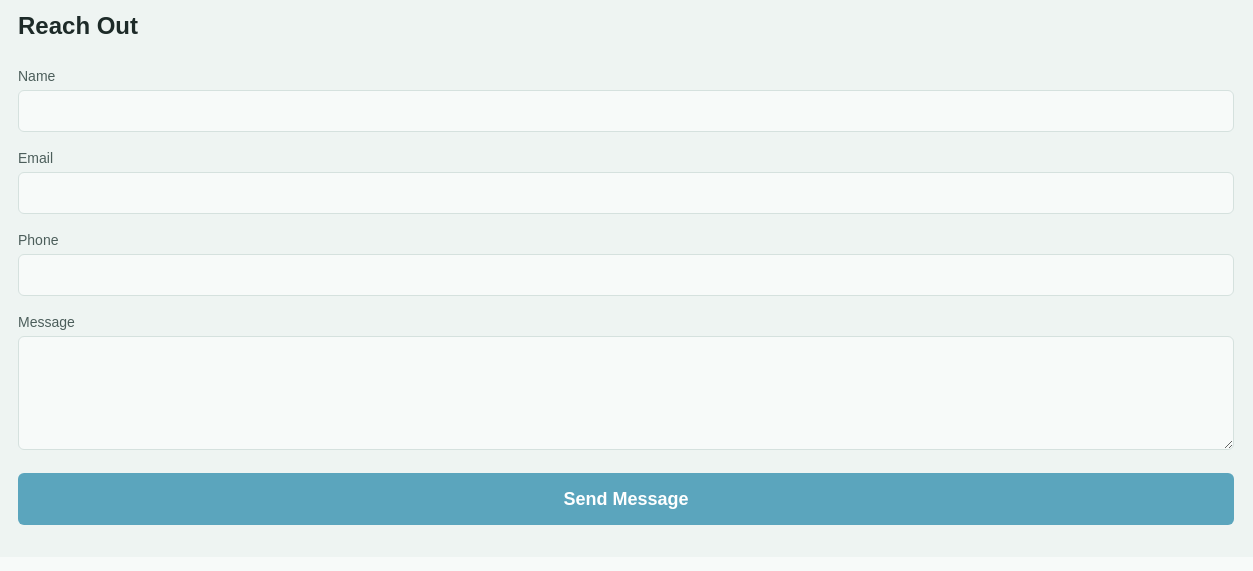
ContactForm › clears contact info validation error when email or phone changes
Type "Jane Doe" into the field labelled "Name".
click(626, 111); type("Jane Doe")  # box [18,90,1234,132]
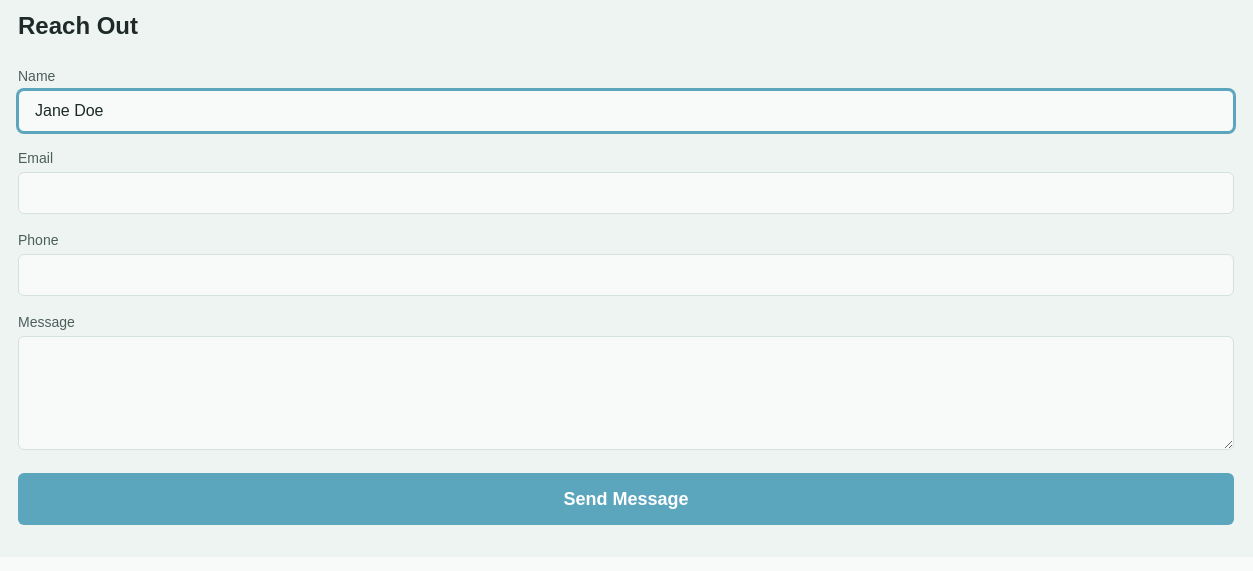
Type "Hello there." into the text box labelled "Message".
click(626, 393); type("Hello there.")  # box [18,336,1234,450]
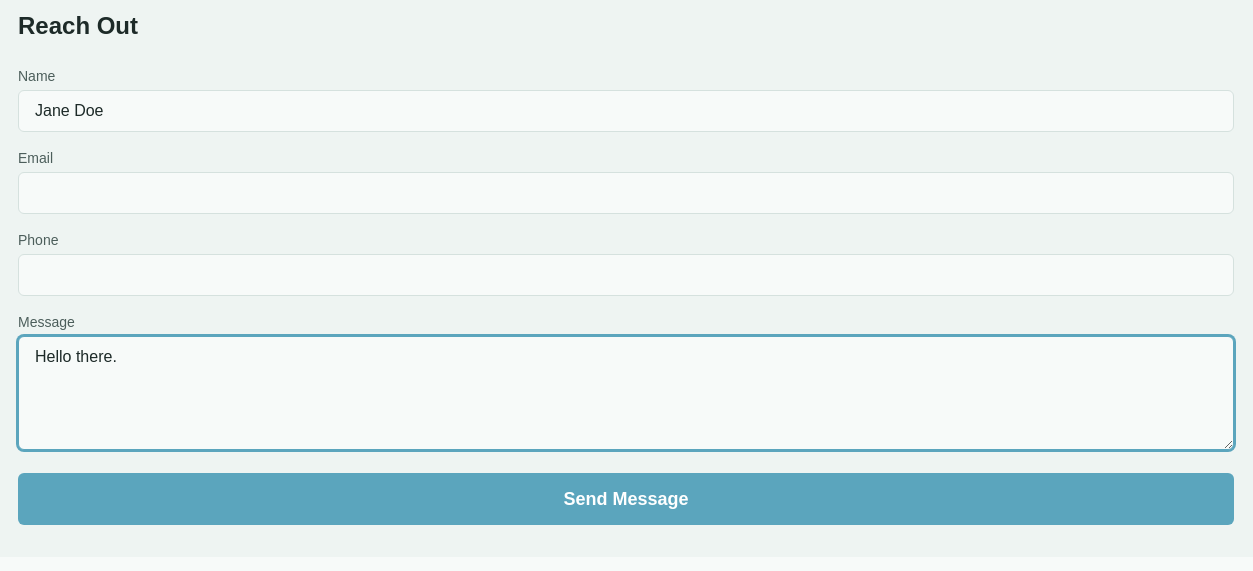
Click the button "Send Message".
click(626, 499)  # box [18,473,1234,525]
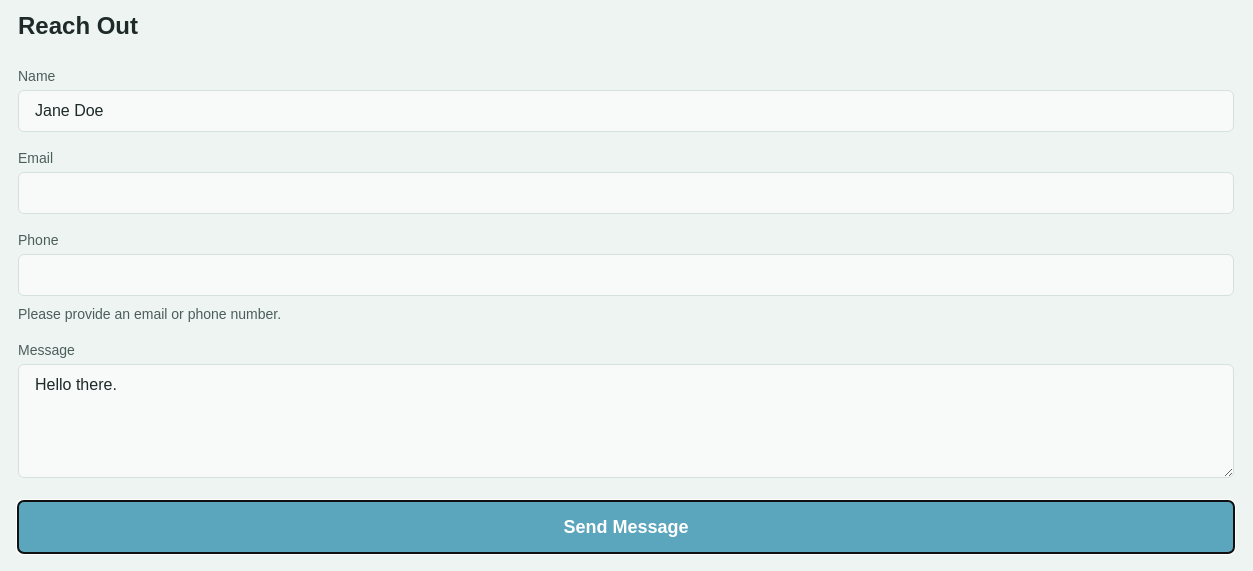
Expected: the text "Please provide an email or phone number." is shown, [18,306,281,322]
Type "555-123-4567" into the field labelled "Phone".
click(626, 275); type("555-123-4567")  # box [18,254,1234,296]
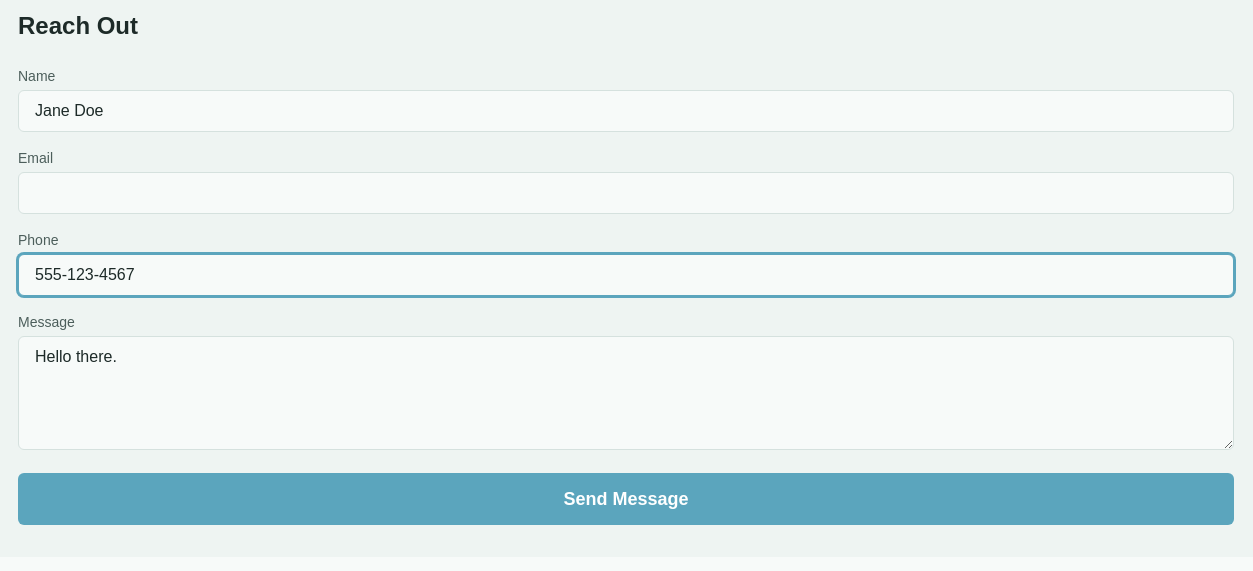
Expected: the text "Please provide an email or phone number." is gone
